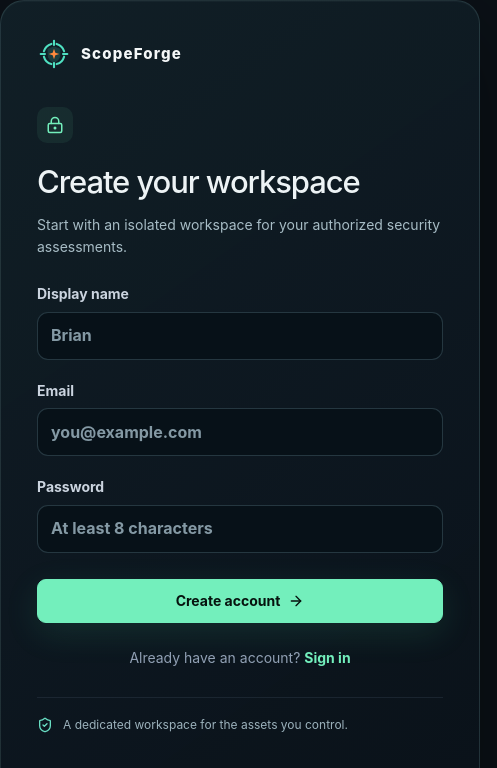
Scenario: AuthForm › renders a bounded sign-up error instead of account-existence detail
Type "Alice" into the field labelled "Display name" at (240, 336), box [37,312,443,360]
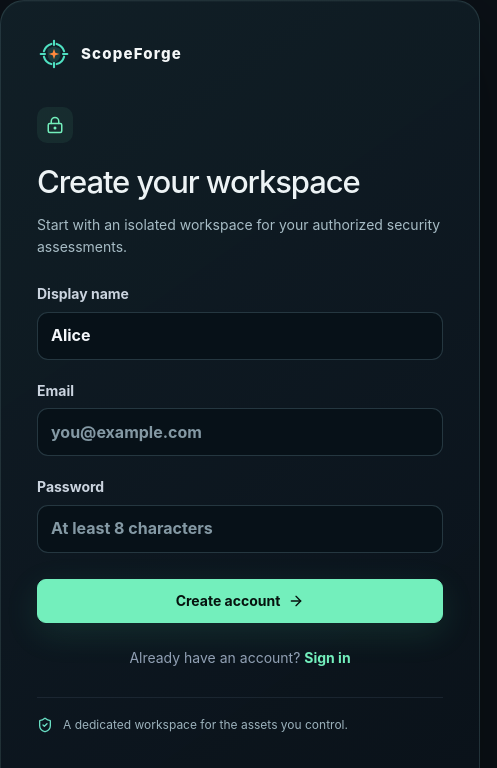
Type "alice@example.com" into the field labelled "Email" at (240, 432), box [37,408,443,456]
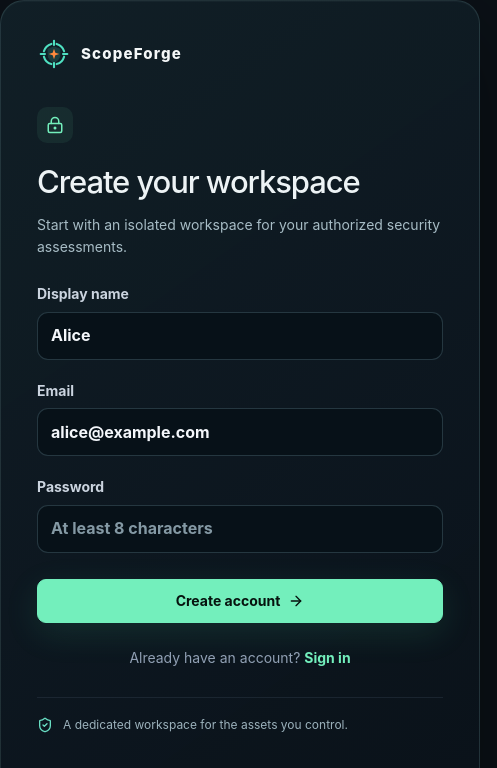
Type "password123" into the password field labelled "Password" at (240, 529), box [37,505,443,553]
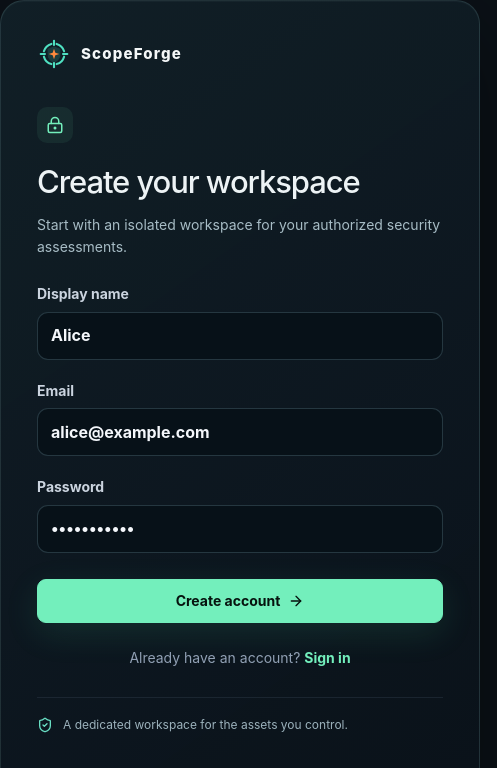
Click the button "Create account" at (240, 601), box [37,579,443,623]
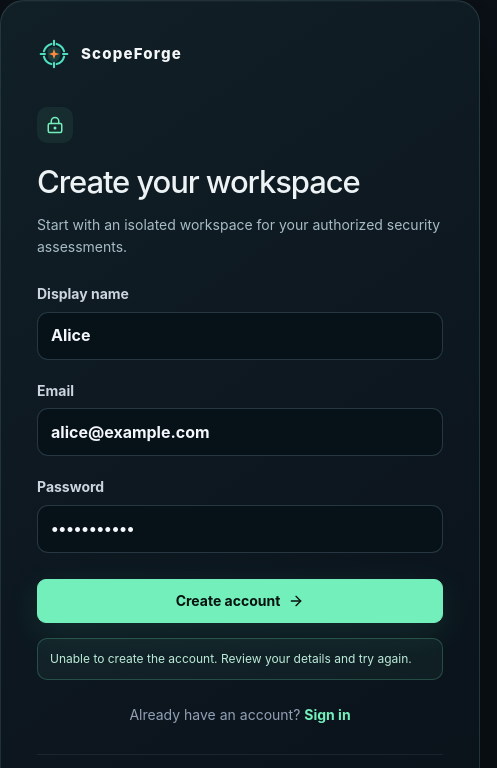
Expected: the message reads "Unable to create the account. Review your details and try again.", [50,651,412,666]
